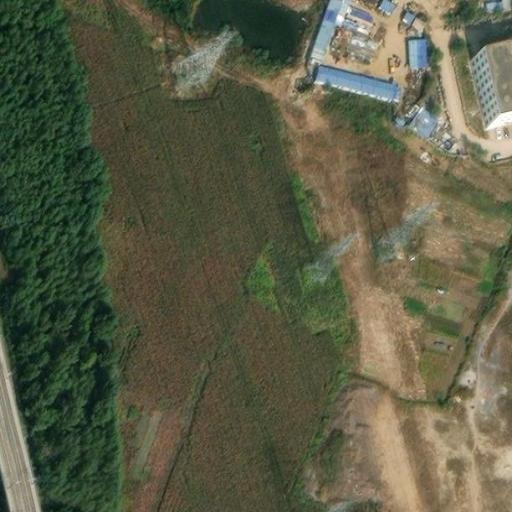building: (474, 35, 512, 115), (314, 60, 401, 94), (408, 101, 441, 134), (410, 28, 431, 59)
